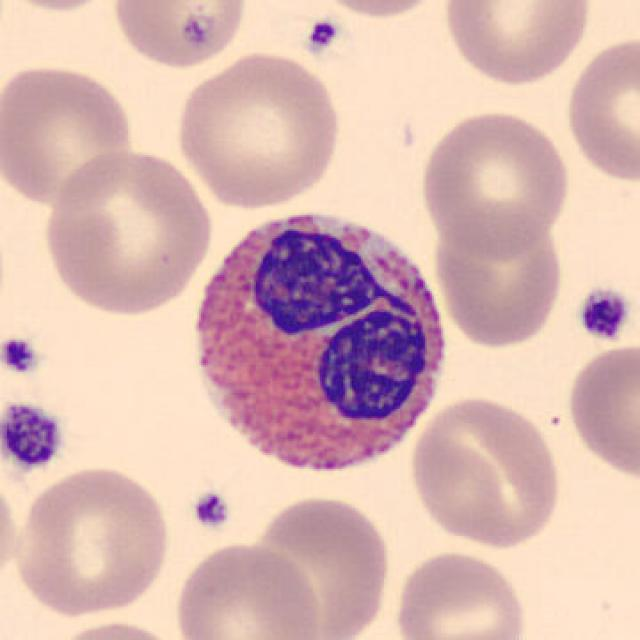Eosinophil: (178, 194, 457, 492)
Platelets: (0, 398, 68, 474), (572, 284, 633, 345), (0, 333, 46, 379), (188, 488, 233, 532), (303, 16, 342, 58)
RBC: (39, 146, 215, 318), (170, 48, 347, 212), (11, 460, 174, 621), (405, 391, 567, 552), (416, 106, 572, 259), (245, 490, 395, 638), (0, 58, 139, 210), (432, 210, 567, 351), (170, 537, 325, 640), (439, 0, 596, 88), (391, 548, 532, 640), (560, 30, 638, 187), (562, 338, 640, 485), (106, 0, 250, 72), (44, 617, 190, 640), (0, 467, 23, 596), (302, 0, 453, 19), (0, 0, 124, 14)
